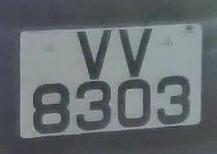0: (113, 75, 156, 133)
3: (71, 77, 115, 134), (155, 70, 195, 130)
8: (26, 73, 74, 141)
V: (113, 23, 160, 83), (74, 25, 121, 83)
